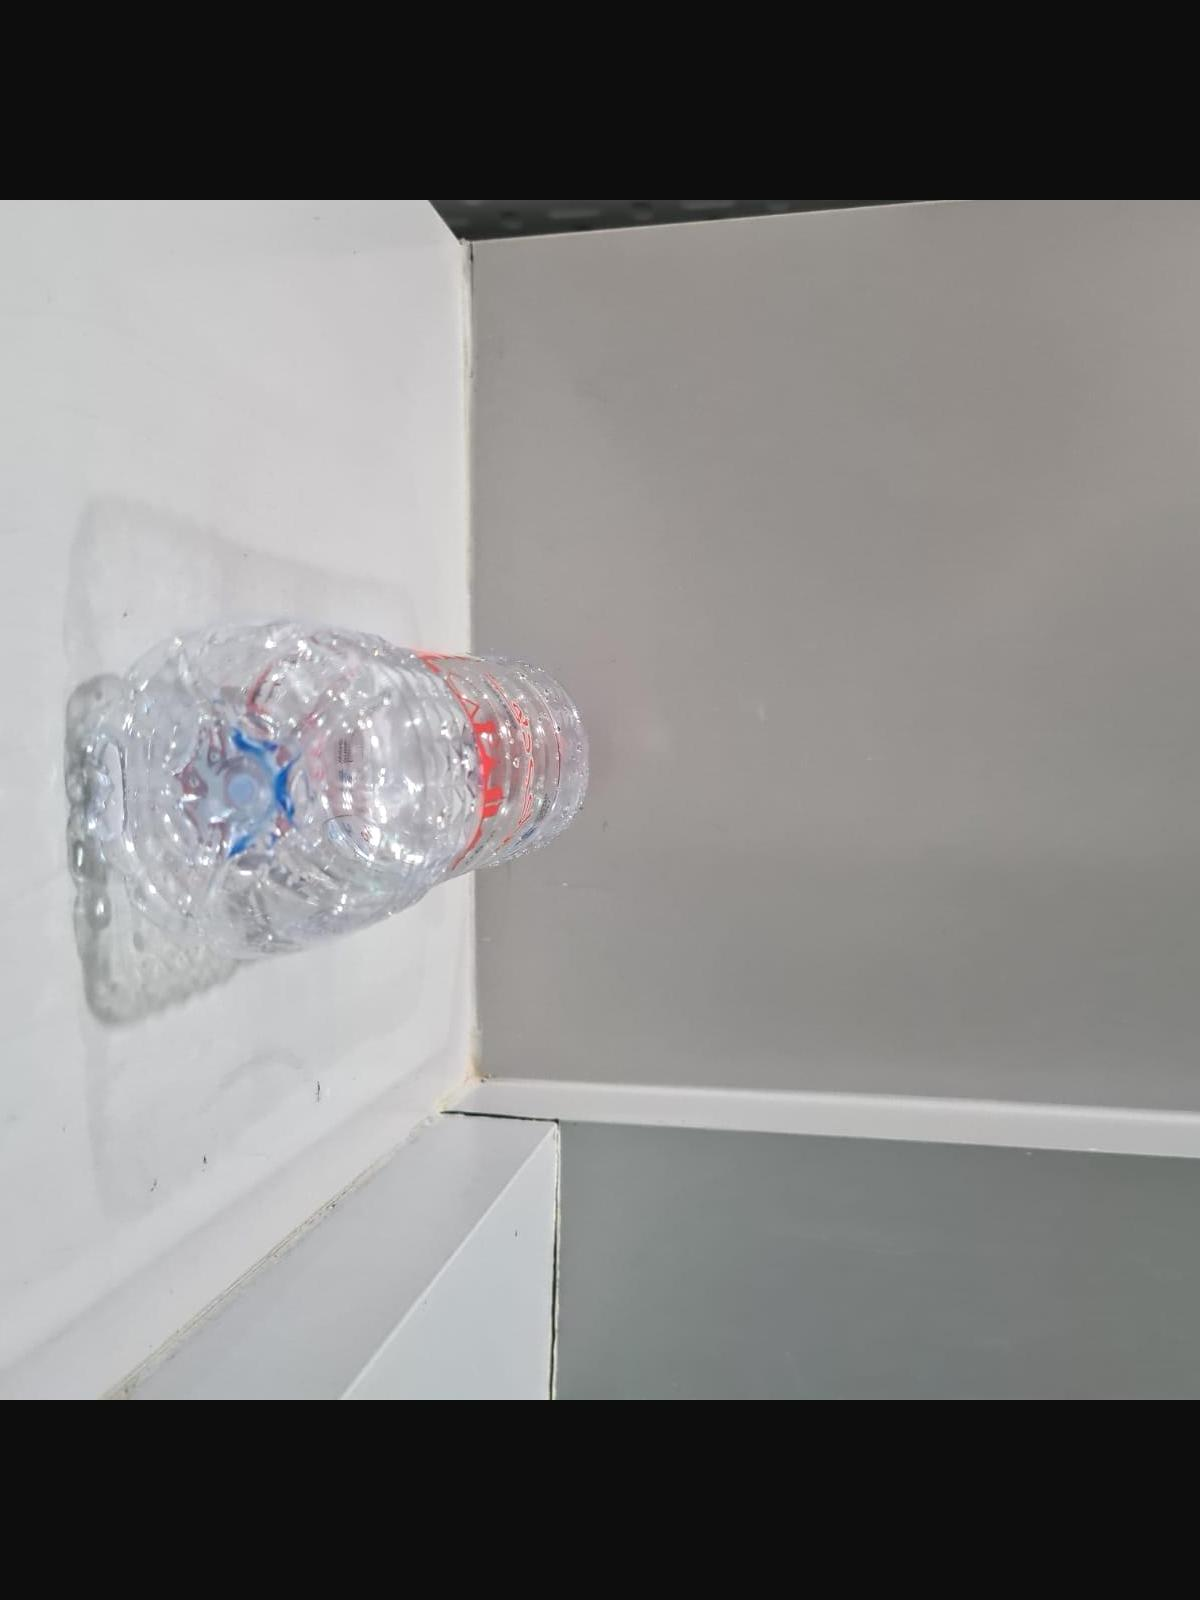bottle: (93, 627, 596, 960)
